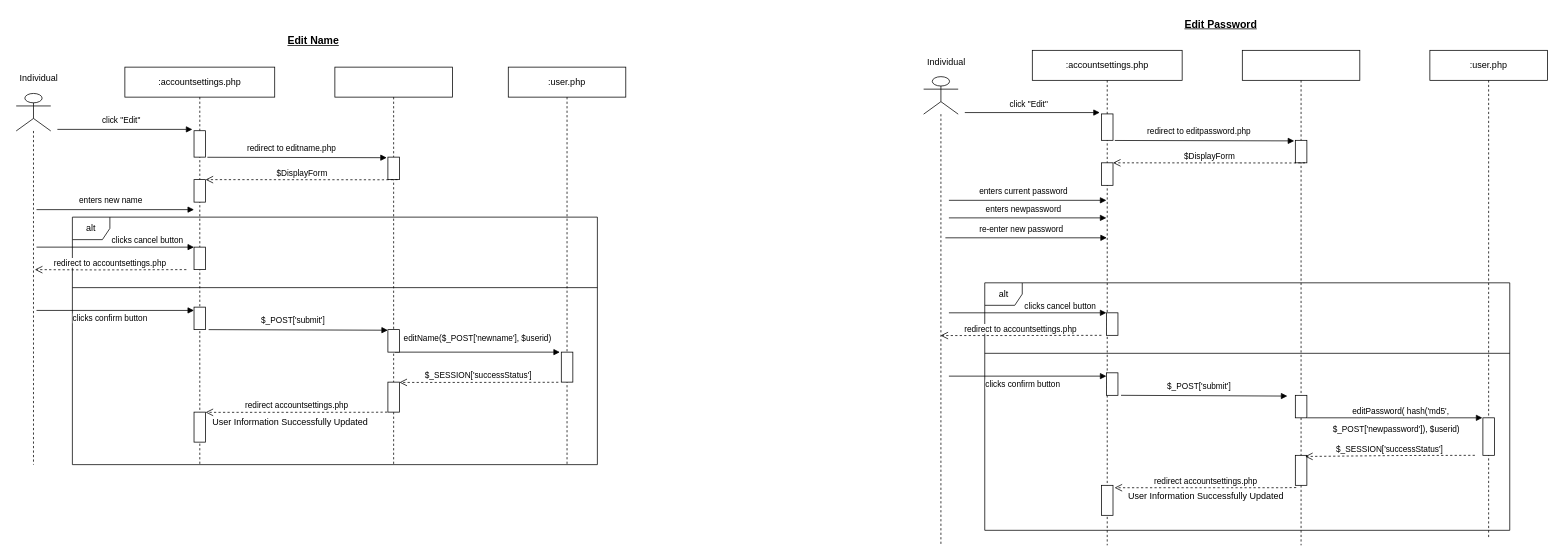
Image size: 1562x559. Some labels were removed from this diagram. Here are the shapes that lost their labels. From the top down, the box of each, then its label:
(334, 66, 452, 465): :editname.php
(1242, 50, 1360, 545): :editpassword.php
